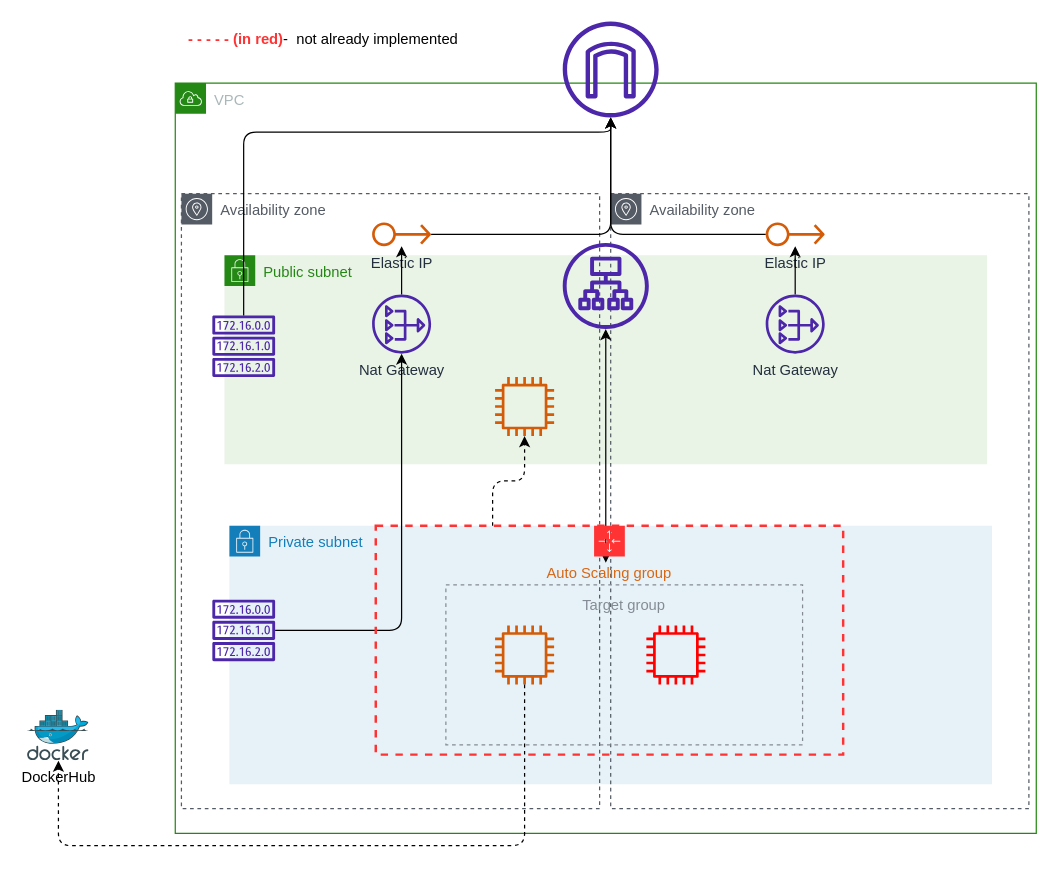
The diagram is 1058 pixels wide and 877 high, and some of its shapes have lost their labels. The centre of each missing label's shape, as x and y in pixels:
"Application Load Balancer" belongs at point (605, 285).
"Bastion" belongs at point (524, 405).
"Internet Gateway" belongs at point (610, 69).
"Private Route Table" belongs at point (243, 630).
"Public Route Table" belongs at point (243, 345).
"Webserver" belongs at point (524, 654).
